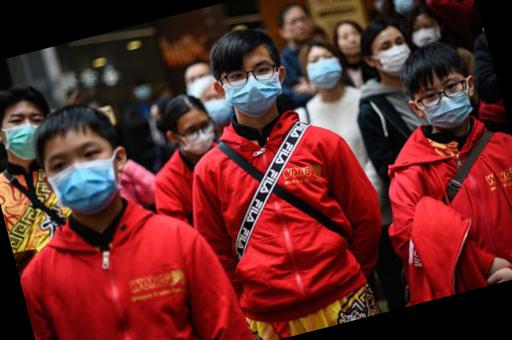with_mask: (39, 135, 125, 218), (218, 55, 289, 123), (409, 70, 478, 134), (370, 33, 414, 80), (174, 117, 219, 159), (303, 49, 346, 91), (199, 85, 237, 129), (181, 66, 221, 102), (409, 19, 443, 52)
without_mask: (283, 13, 313, 43), (335, 27, 365, 57)
